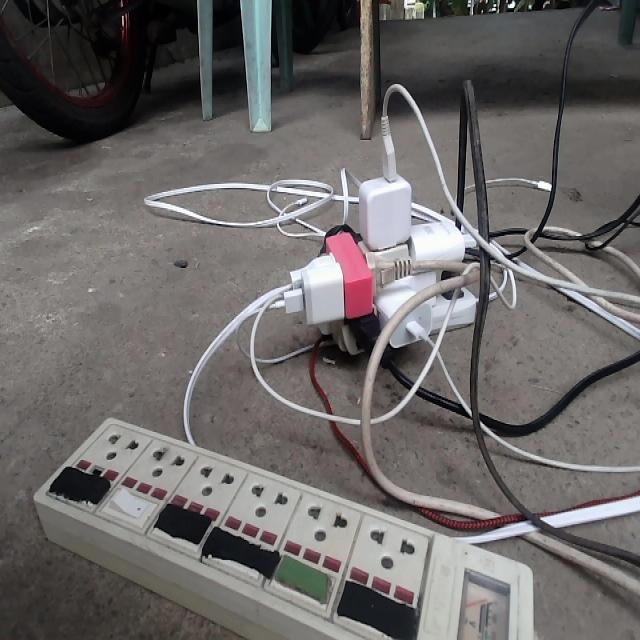-: (276, 112, 481, 365)
